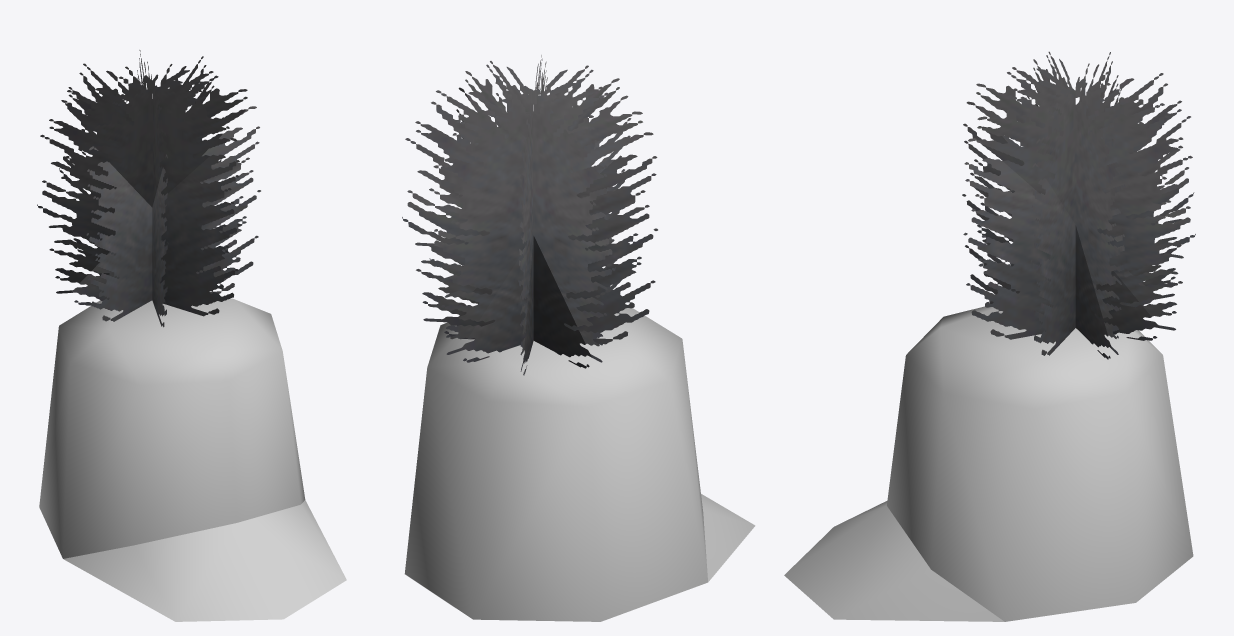
The model's file is enm_pawn_shp_Head.obj.
3 renders of one model, left to right at view 1: azimuth 30°, elevation 25°; view 2: azimuth 150°, elevation 25°; view 3: azimuth 270°, elevation 25°, orthographic. The views are drawn at different scales.
Visible parts, largest first — view 1: polygon1, polygon0; view 2: polygon1, polygon0; view 3: polygon1, polygon0.
Boxes of the visible parts, left/top/right/bottom form: polygon1: left=39, top=295, right=346, bottom=621; polygon0: left=37, top=50, right=260, bottom=327; polygon1: left=404, top=303, right=755, bottom=621; polygon0: left=402, top=55, right=657, bottom=375; polygon1: left=784, top=306, right=1193, bottom=621; polygon0: left=962, top=51, right=1195, bottom=359.
Bounding box in the file's own units: 4.93 × 8.76 × 6.92.
